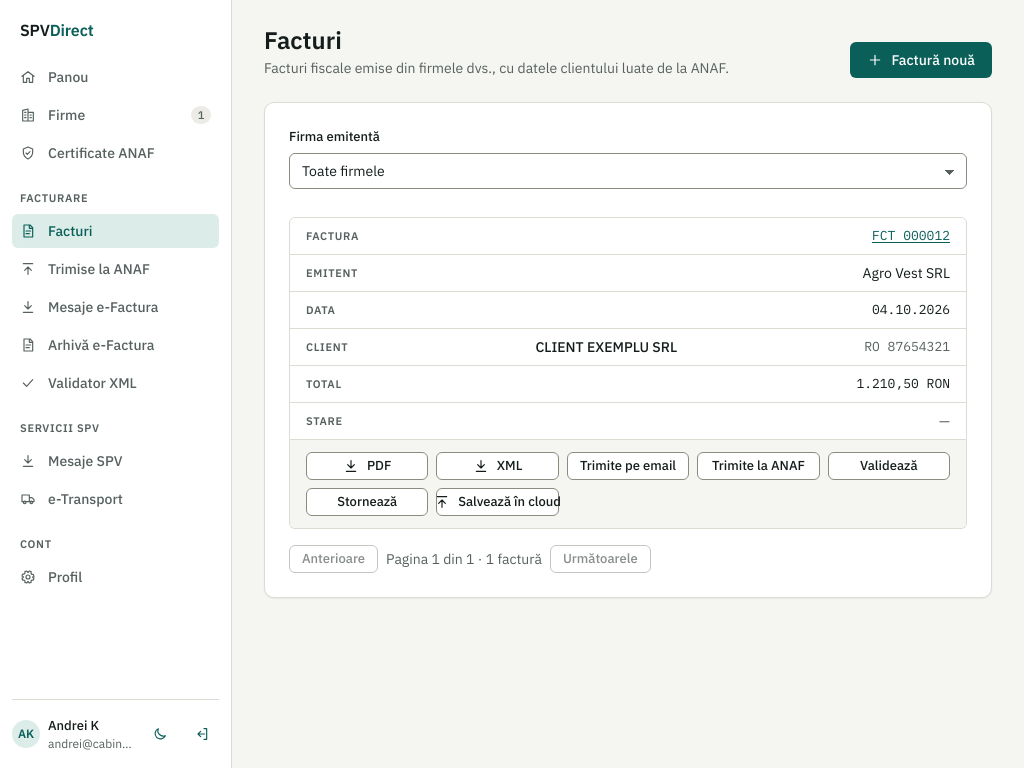
Facturi list › sends the invoice to a typed address
Click the button with aria-label "Trimite pe email FCT 000012": x=628, y=466 [567,452,689,480]
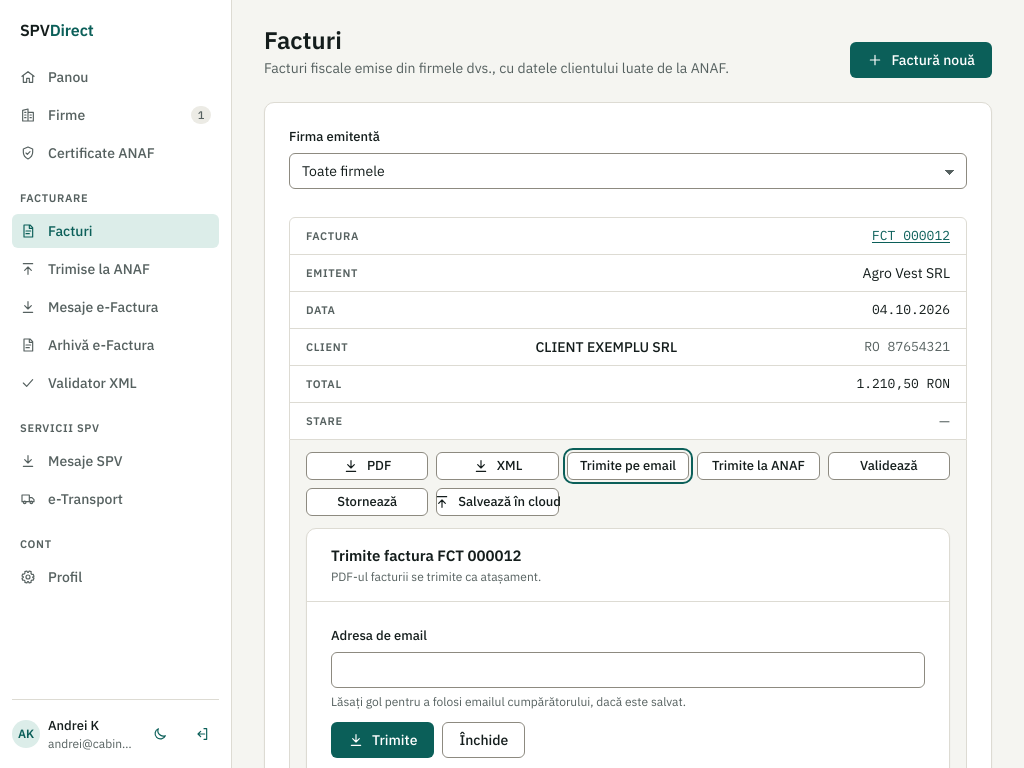
In the field labelled "Adresa de email": x=628, y=670 [331,652,925,688], type "client@exemplu.ro"
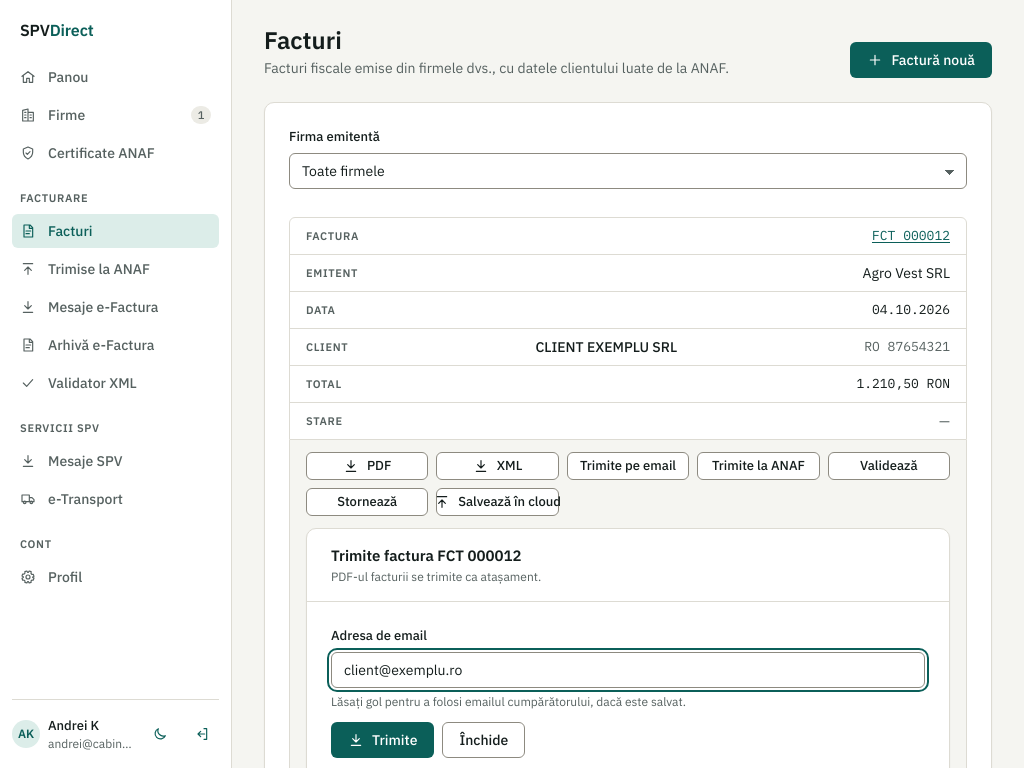
Click the button "Trimite": x=383, y=740 [331,722,434,758]
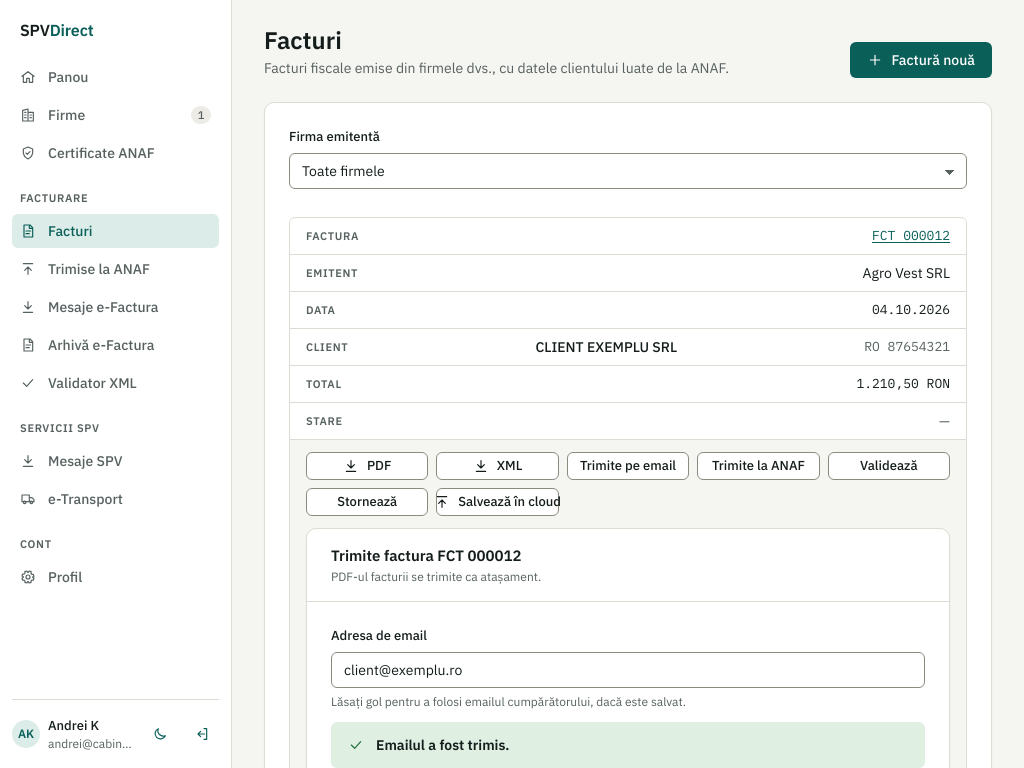
Now the text "Emailul a fost trimis." is shown, box [376,735,510,755]
